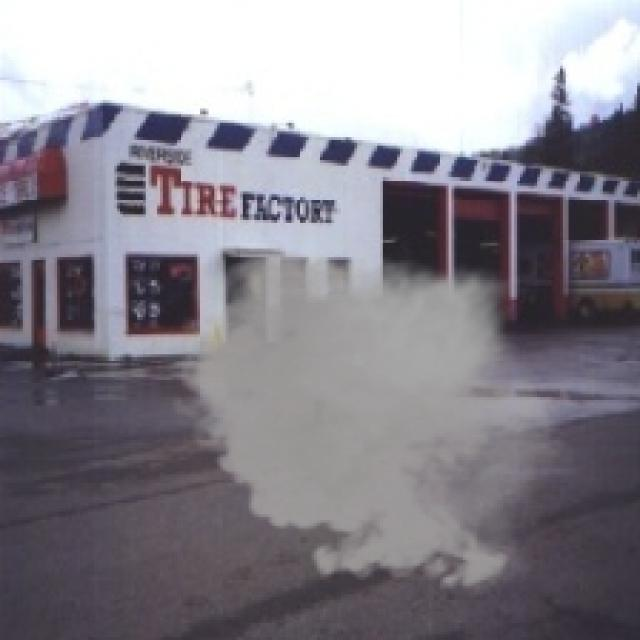smoke: (163, 237, 574, 600)
